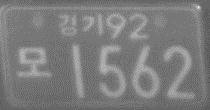1: (62, 44, 91, 99)
2: (162, 43, 194, 100), (127, 12, 149, 39)
5: (97, 44, 127, 99)
6: (130, 44, 160, 99)
9: (106, 12, 126, 39)
경기_O: (58, 14, 104, 38)
모: (16, 46, 53, 79)
